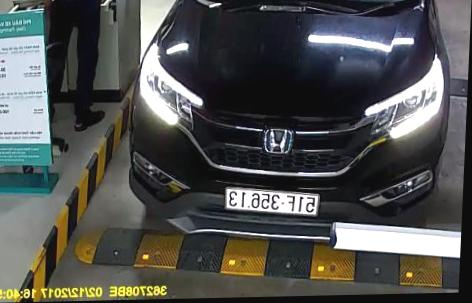License_Plate: (222, 186, 324, 216)
